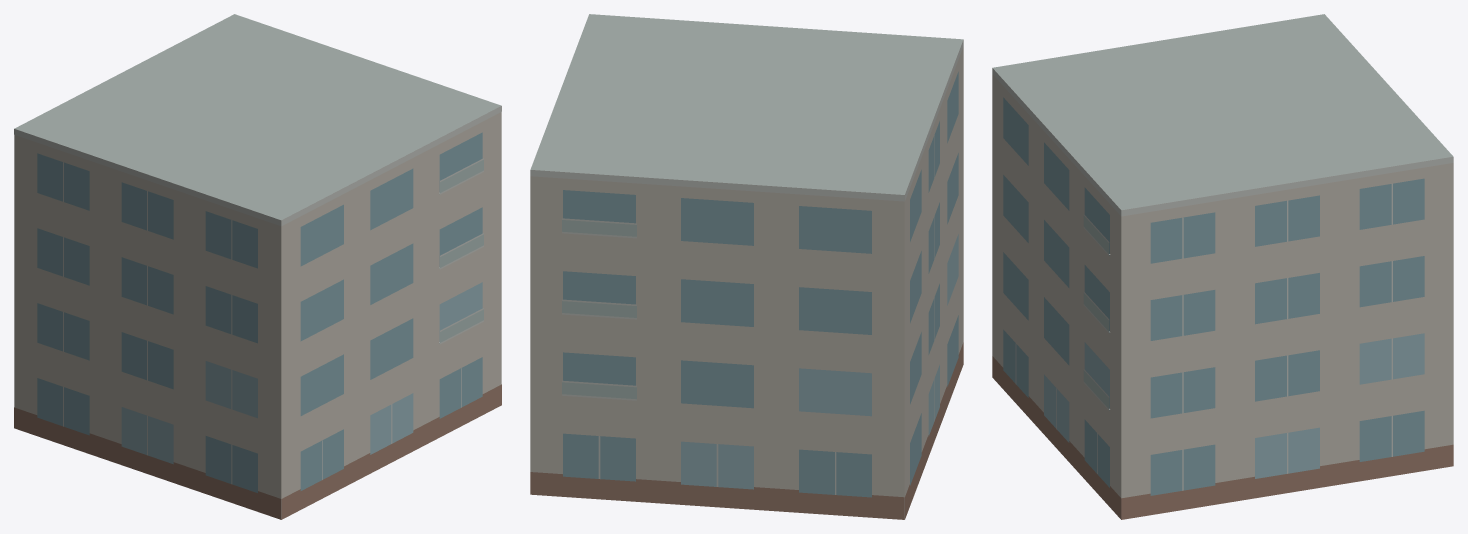
Rendered from residential-3cbc0999-1091-4818-8ddc-f5d2ffb3283a.glb.
The picture shows the model from 3 angles, left to right: view 1: azimuth 30°, elevation 25°; view 2: azimuth 150°, elevation 25°; view 3: azimuth 270°, elevation 25°; orthographic projection. The views are drawn at different scales.
Parts seen in each view (by area): view 1: residential-3cbc0999-1091-4818-8ddc-f5d2ffb3283a.tmp; view 2: residential-3cbc0999-1091-4818-8ddc-f5d2ffb3283a.tmp; view 3: residential-3cbc0999-1091-4818-8ddc-f5d2ffb3283a.tmp.
Part boxes in pixels (x1,y1,x2,y2): residential-3cbc0999-1091-4818-8ddc-f5d2ffb3283a.tmp: (14, 14, 501, 519); residential-3cbc0999-1091-4818-8ddc-f5d2ffb3283a.tmp: (530, 14, 963, 519); residential-3cbc0999-1091-4818-8ddc-f5d2ffb3283a.tmp: (992, 14, 1453, 519).
Size of the model in its own units: 16.61 by 12.2 by 16.49.
